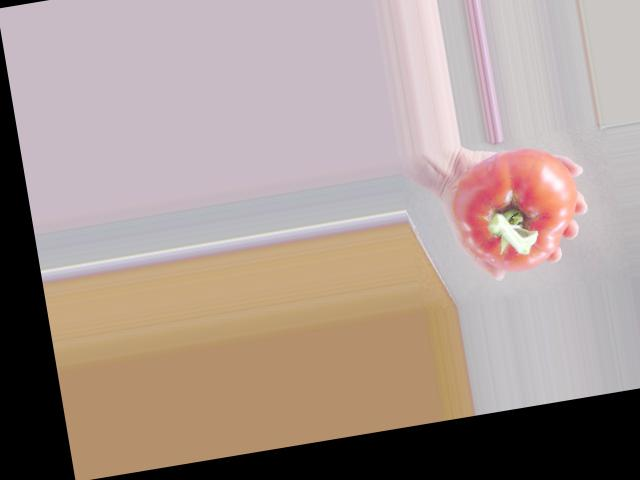tomato: (445, 140, 588, 280)
